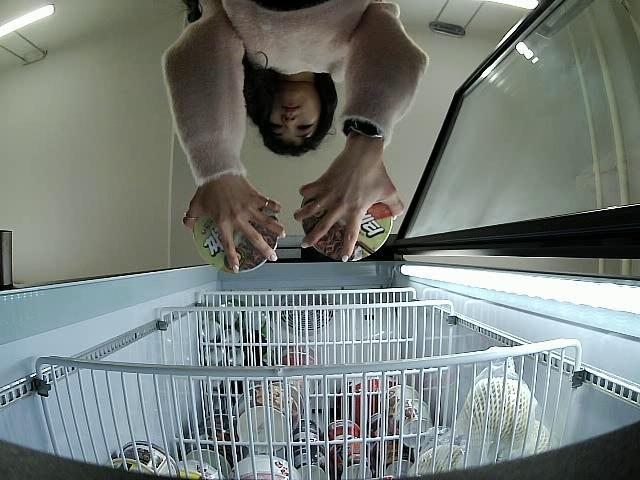03_chapagetti_L: (192, 194, 278, 273), (302, 195, 394, 264)
